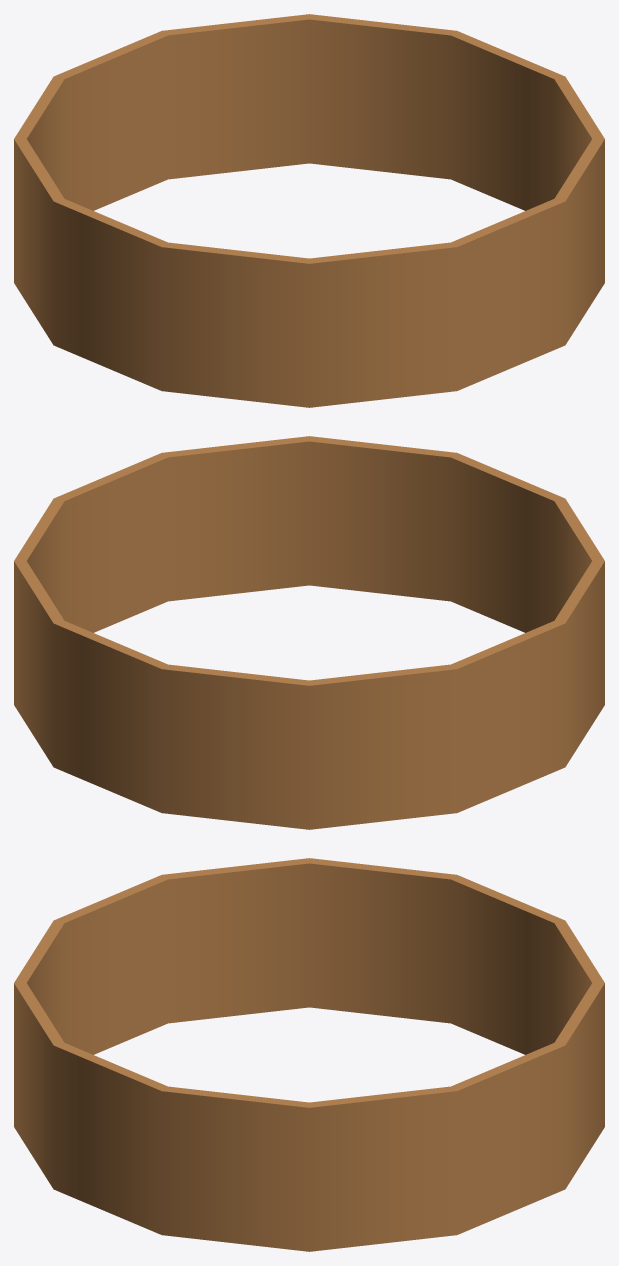
Rendered from Pipe_sleeve1.fbx.
3 renders of one model, top to bottom at view 1: azimuth 30°, elevation 25°; view 2: azimuth 150°, elevation 25°; view 3: azimuth 270°, elevation 25°, orthographic.
Visible parts, largest first — view 1: /ES-PP007; view 2: /ES-PP007; view 3: /ES-PP007.
Boxes of the visible parts, bbox=[...] form: /ES-PP007: bbox=[14, 14, 604, 407]; /ES-PP007: bbox=[14, 436, 604, 829]; /ES-PP007: bbox=[14, 858, 604, 1251].
Bounding box in the file's own units: 0.372 × 0.372 × 0.1.
